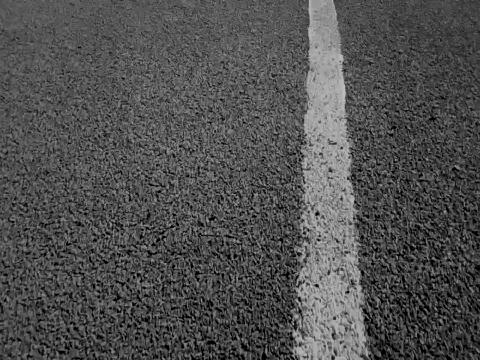Lines: (297, 0, 369, 360)
